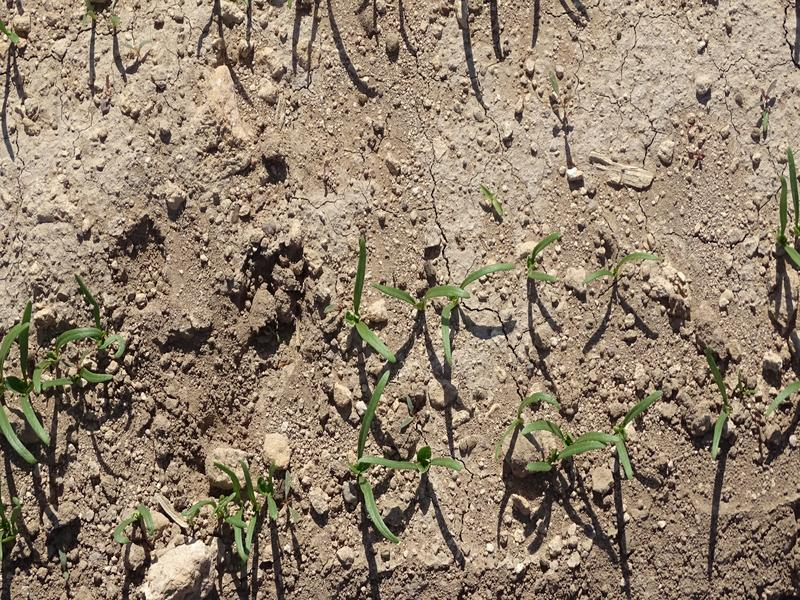Espinaca: (1, 315, 126, 460), (355, 372, 459, 541), (526, 392, 663, 481), (195, 463, 288, 556), (376, 262, 510, 320), (351, 240, 392, 365), (774, 152, 800, 262), (589, 247, 660, 284), (768, 363, 798, 420), (528, 230, 559, 283), (705, 407, 731, 455)
